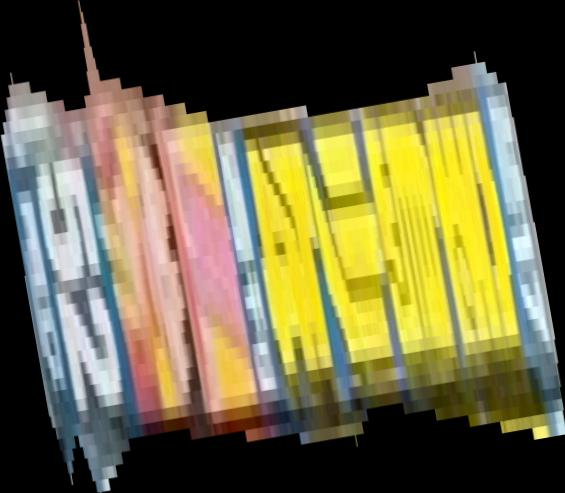flat: (1, 1, 565, 493)
